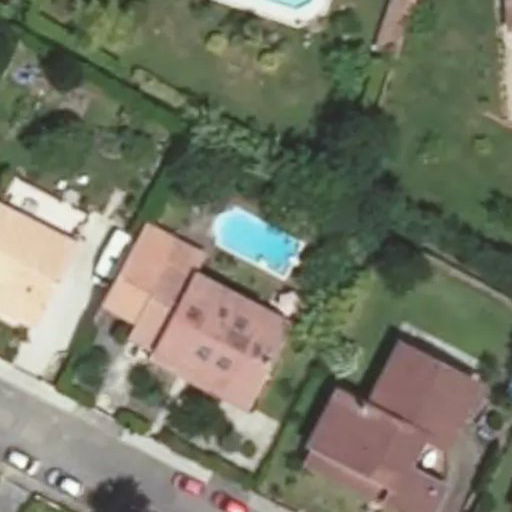pool: (204, 234, 300, 242)
